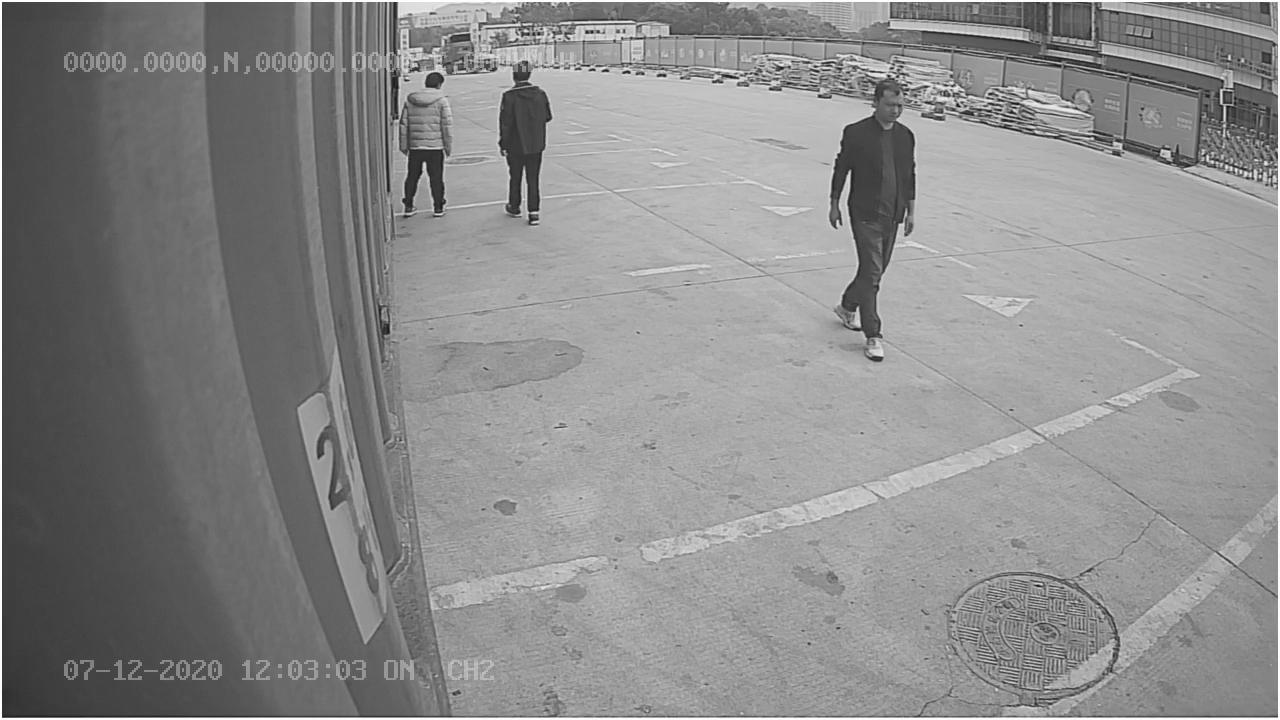person: (827, 81, 921, 365)
